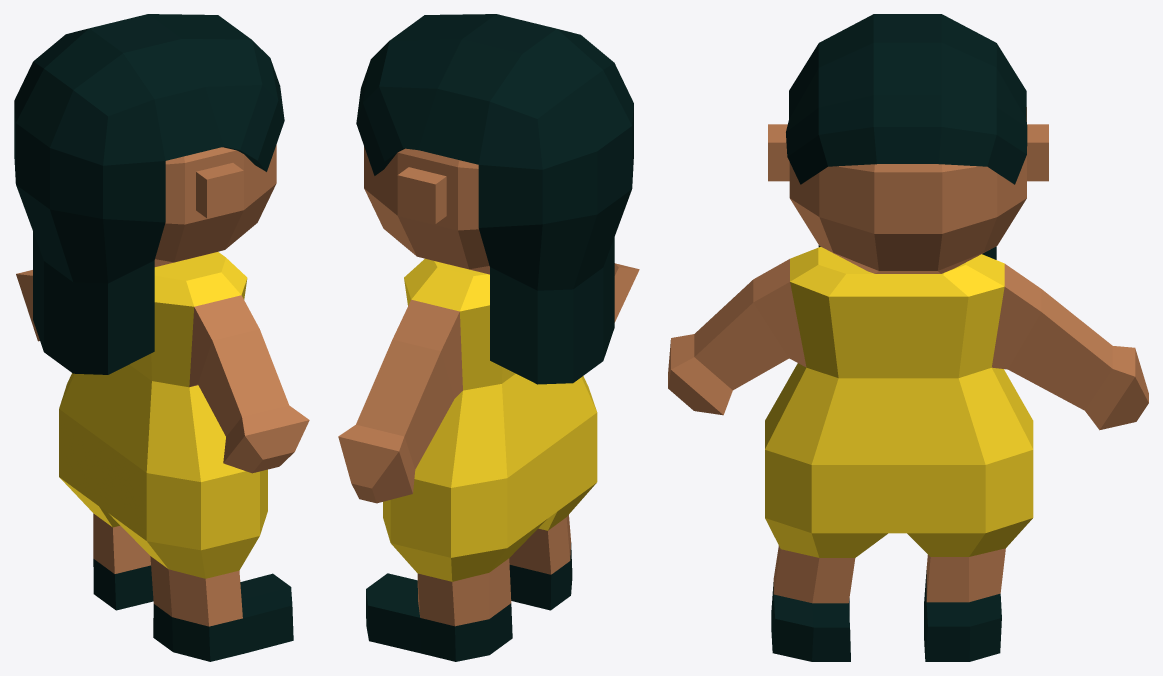
The model's file is doll-yellow.fbx.
3 views of the same model, side by side, from view 1: azimuth 30°, elevation 25°; view 2: azimuth 150°, elevation 25°; view 3: azimuth 270°, elevation 25° (orthographic). The views are drawn at different scales.
Parts seen in each view (by area): view 1: girl; view 2: girl; view 3: girl.
Part boxes in pixels (bbox=[...]): girl: bbox=[14, 14, 309, 661]; girl: bbox=[338, 14, 639, 661]; girl: bbox=[668, 14, 1148, 661].
Size of the model in its own units: 145 by 346 by 259.
